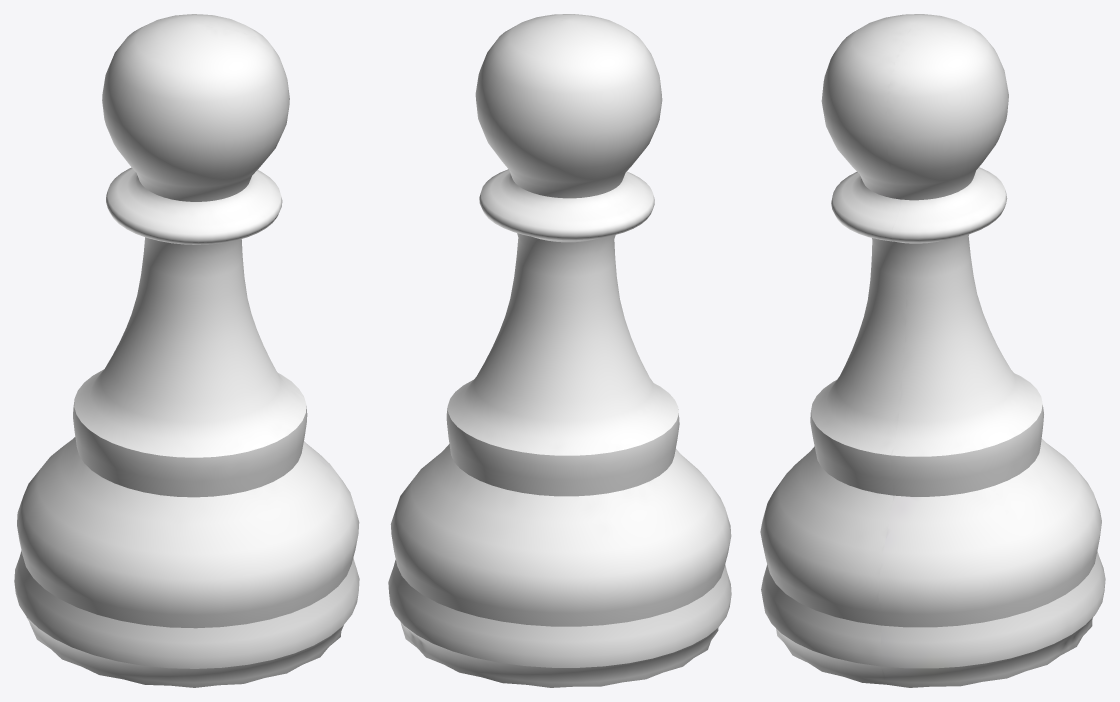
File: Peon_Blanco.glb
The picture shows the model from 3 angles, left to right: view 1: azimuth 30°, elevation 25°; view 2: azimuth 150°, elevation 25°; view 3: azimuth 270°, elevation 25°; orthographic projection.
Visible parts, largest first — view 1: defaultMaterial.013; view 2: defaultMaterial.013; view 3: defaultMaterial.013.
Part boxes in pixels (x1,y1,x2,y2): defaultMaterial.013: (14, 14, 359, 687); defaultMaterial.013: (388, 14, 731, 687); defaultMaterial.013: (760, 14, 1105, 687).
Size of the model in its own units: 0.6094 by 1.17 by 0.6103.
1 material, 1 textured.
